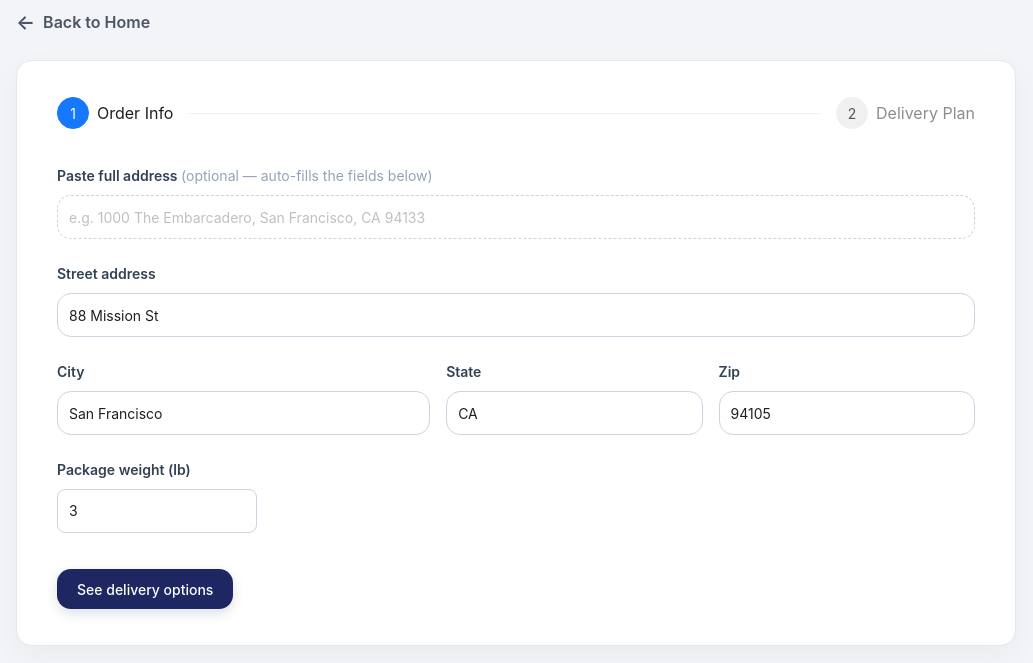
Test: requests quotes with the address fields and advances to the options step
Step 1. Click the button "See delivery options" → (145, 589), box [57,569,233,609]
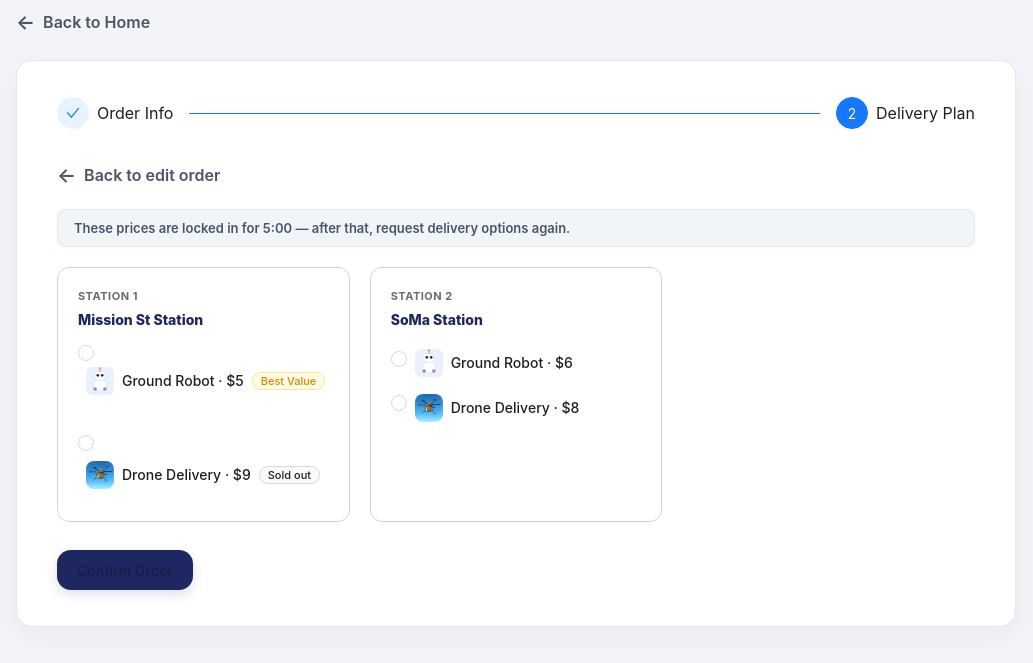
Now the text "Mission St Station" is shown, box [78,311,203,328]
Now the text "SoMa Station" is shown, box [391,311,483,328]
